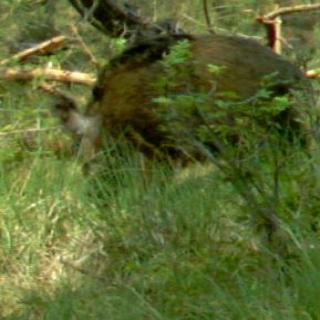Pig: (53, 22, 303, 197)
